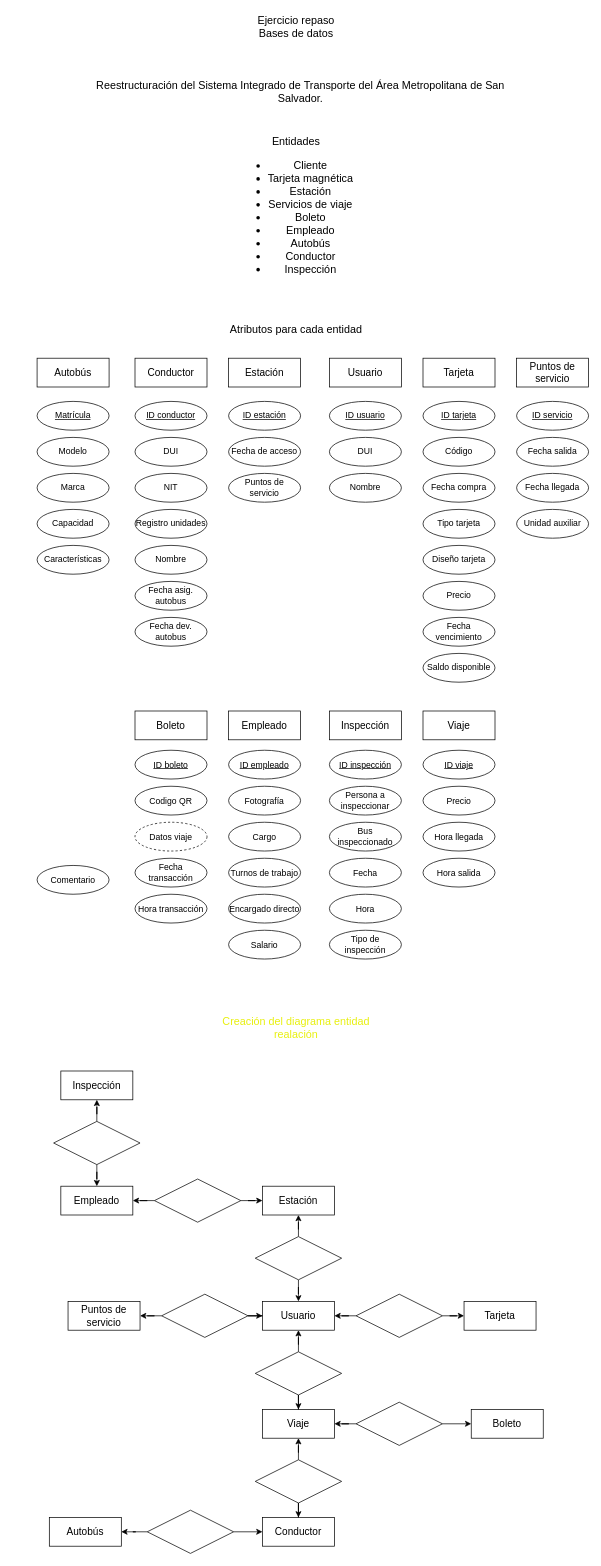
Image size: 601x1566. Some labels were removed from this diagram. Here are the shapes that lost their labels. From the top down, the box of each, then its label:
(53, 1121, 140, 1165): Realiza
(154, 1178, 241, 1222): Trabaja
(255, 1236, 342, 1280): Llega
(161, 1293, 248, 1337): Accede
(355, 1293, 442, 1337): Obtiene
(255, 1351, 342, 1395): Reserva
(355, 1401, 442, 1445): Genera
(255, 1459, 342, 1503): Designa
(147, 1509, 234, 1553): A cargo de
